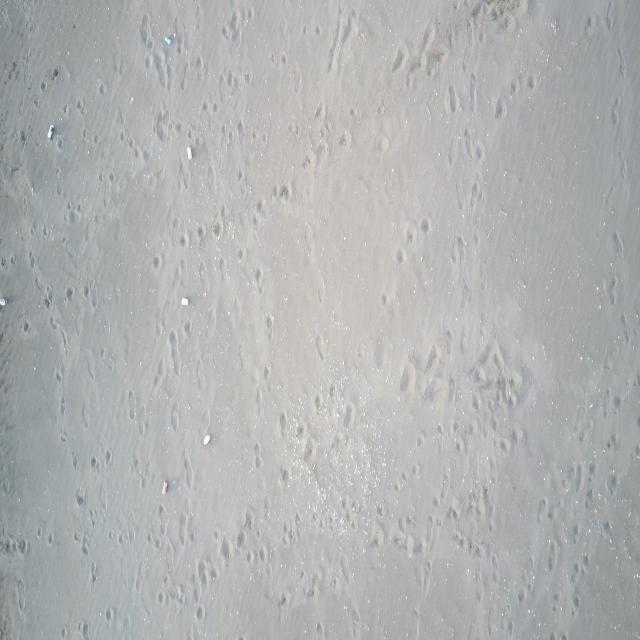Garbage: (47, 124, 54, 139), (161, 480, 167, 493), (180, 296, 187, 306), (164, 35, 172, 43), (203, 434, 209, 444), (187, 145, 191, 159), (0, 296, 5, 306)
